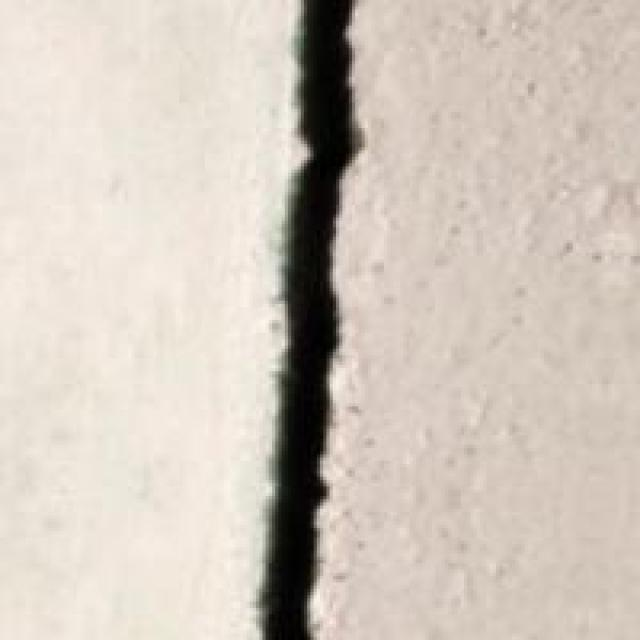Crack: (202, 0, 422, 637)
